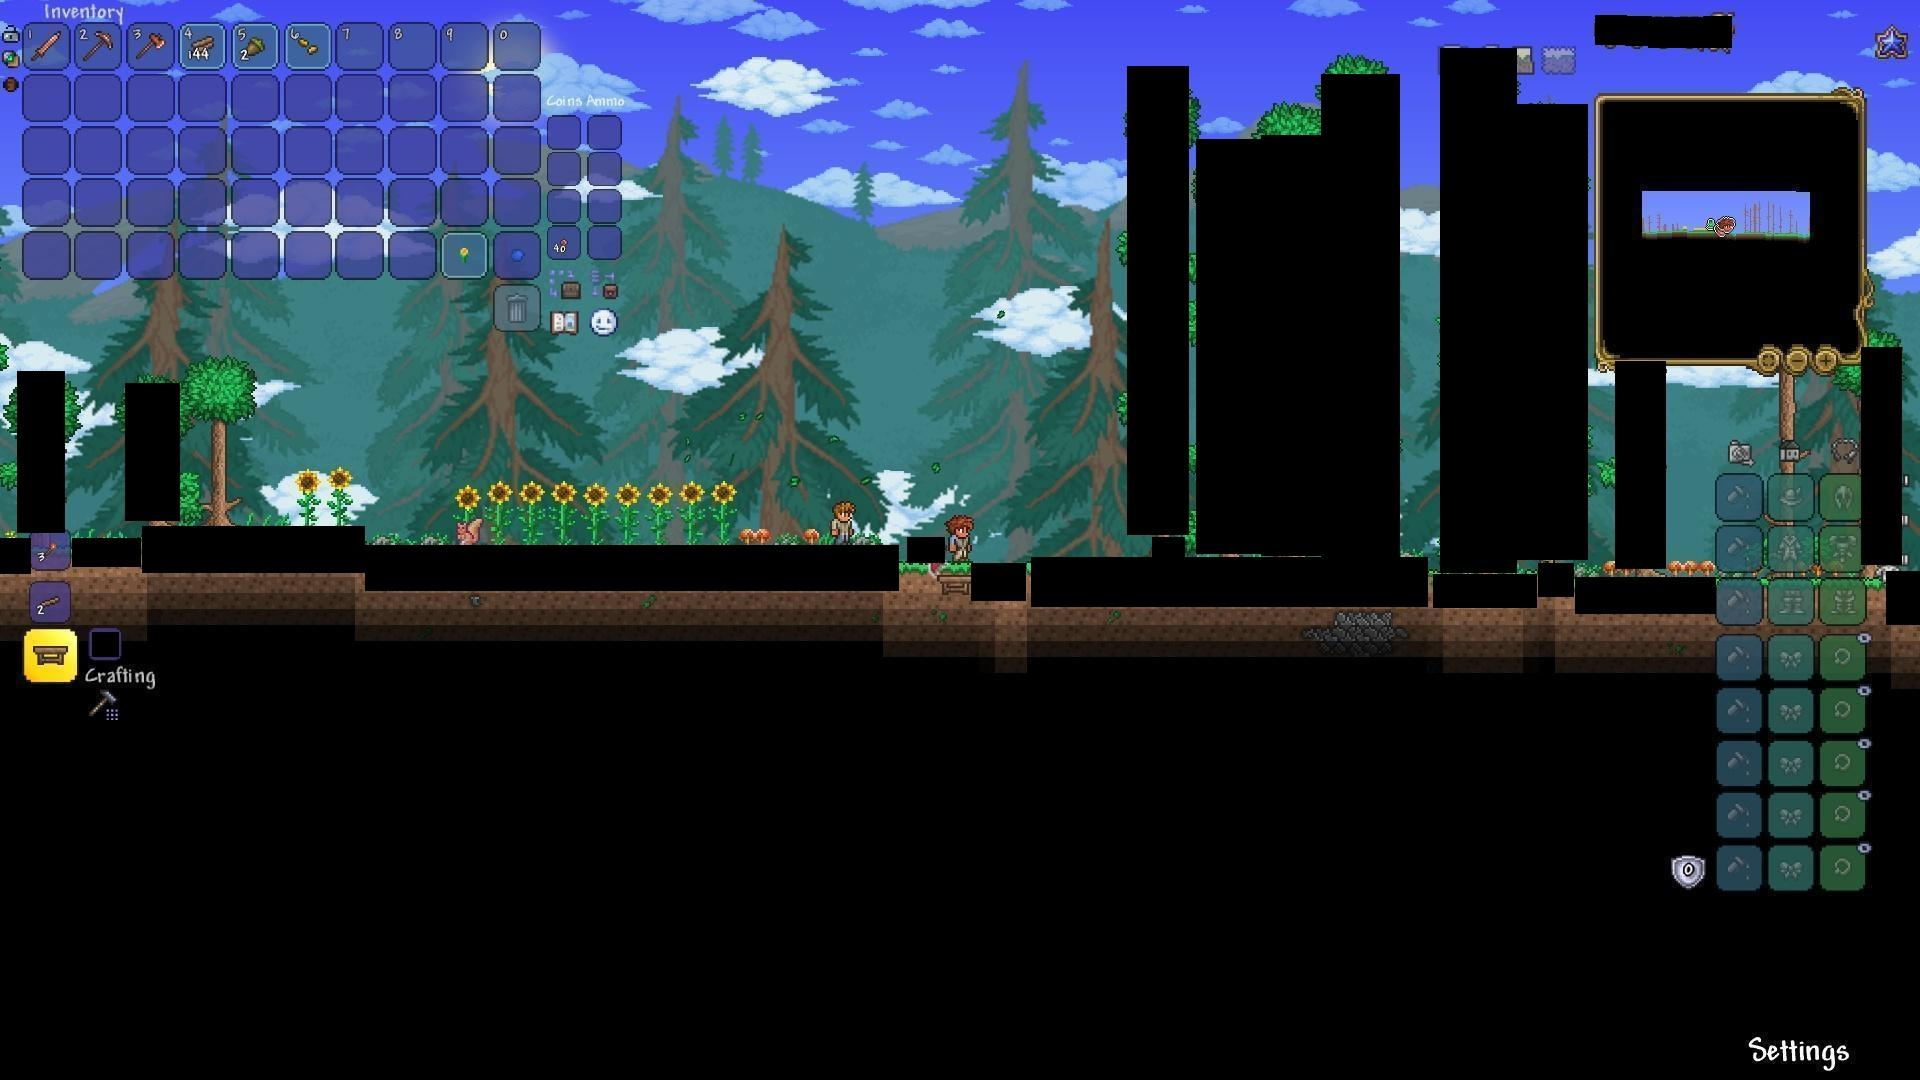tree: (193, 355, 252, 524)
wood: (187, 29, 219, 59)
workbench: (936, 574, 973, 597), (32, 644, 65, 669)
